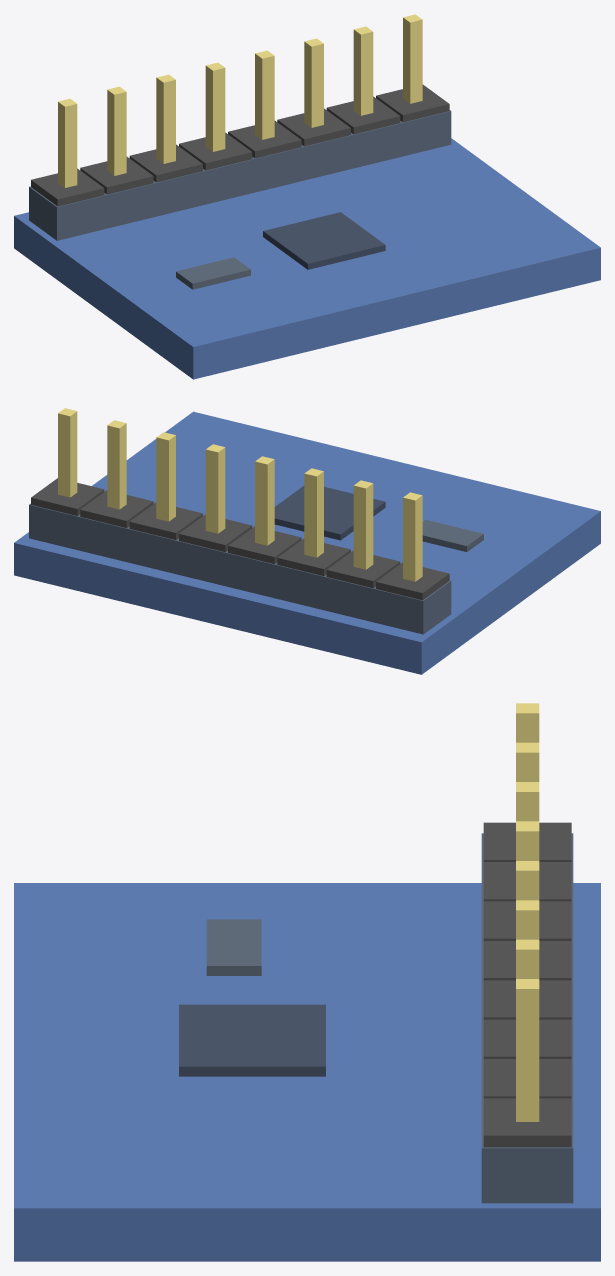
The model's file is mpu6050-imu.glb.
The picture shows the model from 3 angles, top to bottom: view 1: azimuth 30°, elevation 25°; view 2: azimuth 150°, elevation 25°; view 3: azimuth 270°, elevation 25°; orthographic projection. The views are drawn at different scales.
Parts seen in each view (by area): view 1: mpu6050-imu_mesh; view 2: mpu6050-imu_mesh; view 3: mpu6050-imu_mesh.
Boxes of the visible parts, x1,y1,x2,y2 form: mpu6050-imu_mesh: (14,14,600,379); mpu6050-imu_mesh: (14,408,600,674); mpu6050-imu_mesh: (14,703,600,1261).
Bounding box in the file's own units: 21 × 7.6 × 16.
